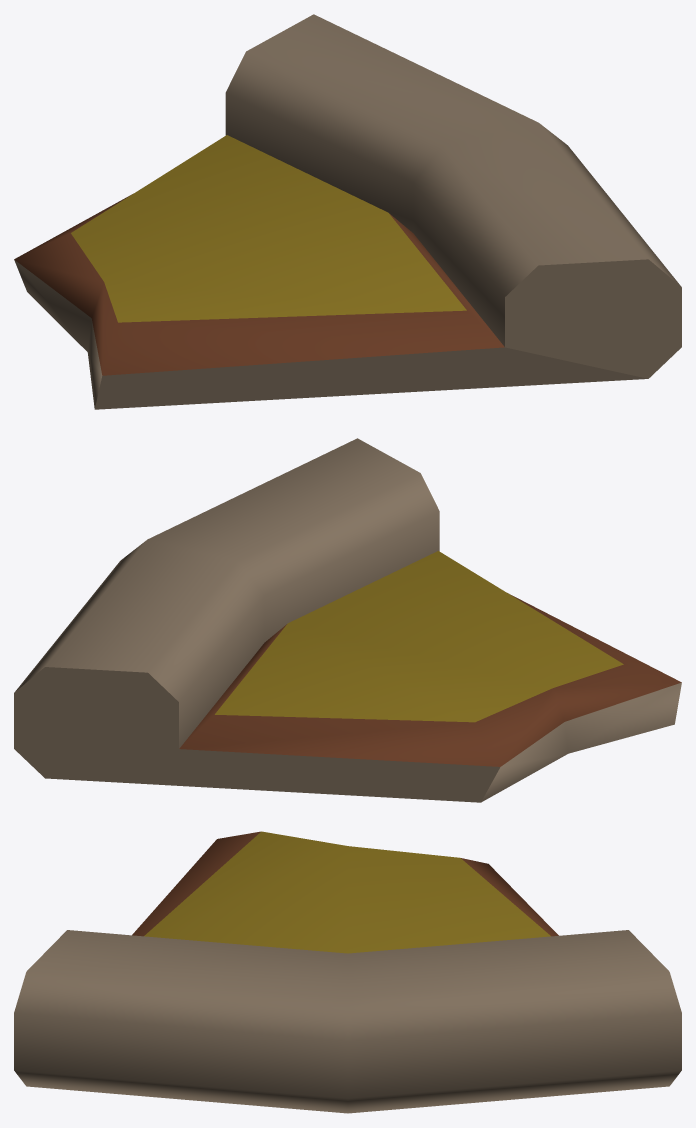
The model's file is PS_PizzaSlice02.fbx.
The picture shows the model from 3 angles, top to bottom: view 1: azimuth 30°, elevation 25°; view 2: azimuth 150°, elevation 25°; view 3: azimuth 270°, elevation 25°; orthographic projection. The views are drawn at different scales.
Visible parts, largest first — view 1: PS_PizzaSlice02; view 2: PS_PizzaSlice02; view 3: PS_PizzaSlice02.
Part boxes in pixels (x1,y1,x2,y2): PS_PizzaSlice02: (14, 14, 681, 409); PS_PizzaSlice02: (14, 438, 681, 802); PS_PizzaSlice02: (14, 831, 681, 1113).
Size of the model in its own units: 0.2181 by 0.0467 by 0.246.
